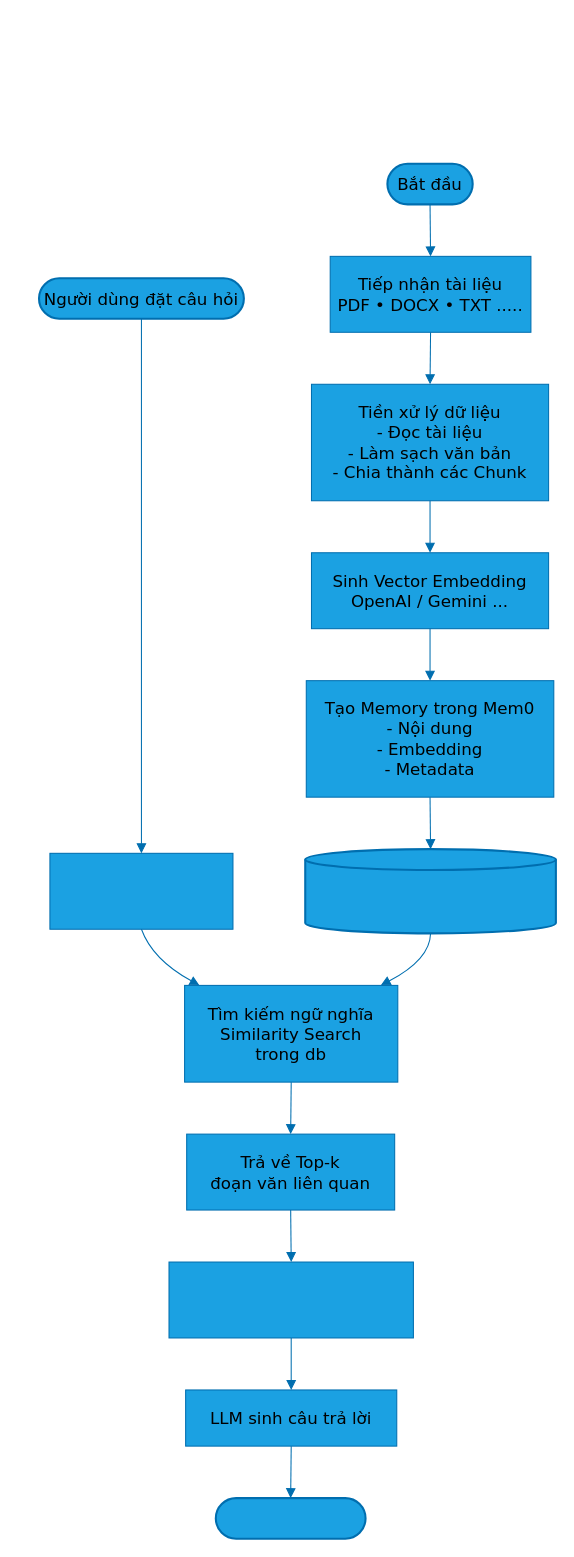
This 574x1557 diagram has some shape labels left out. The box of each missing label's shape, as (x1, y1, x2, y2) in pixels:
Hiển thị kết quả: (214, 1497, 366, 1539)
Sinh Embedding cho câu hỏi: (49, 852, 233, 929)
Tạo Prompt Context + User Question: (168, 1261, 413, 1338)
Vector Database Qdrant / ChromaDB / Pinecone: (304, 848, 556, 934)
